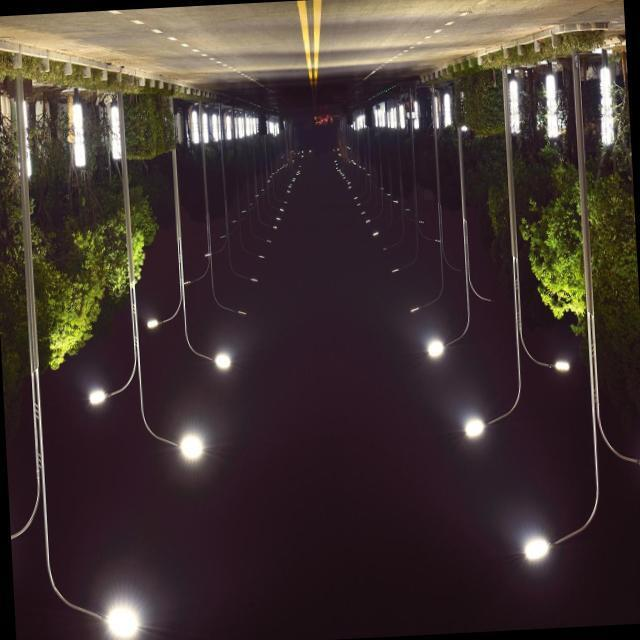on: (60, 550, 214, 640), (500, 505, 598, 604), (400, 323, 488, 396), (163, 390, 224, 488), (203, 326, 266, 408), (75, 366, 132, 444), (113, 286, 180, 342), (462, 396, 512, 470), (550, 328, 598, 400)
